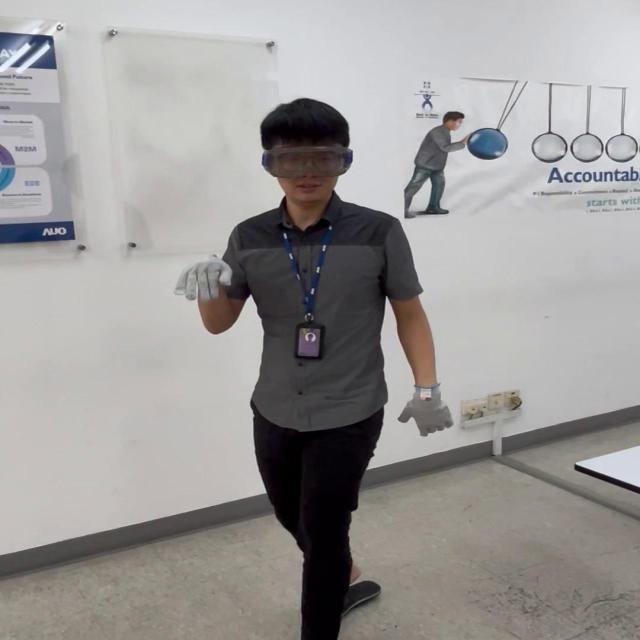gloved_hand: (392, 374, 452, 435), (180, 249, 240, 304)
